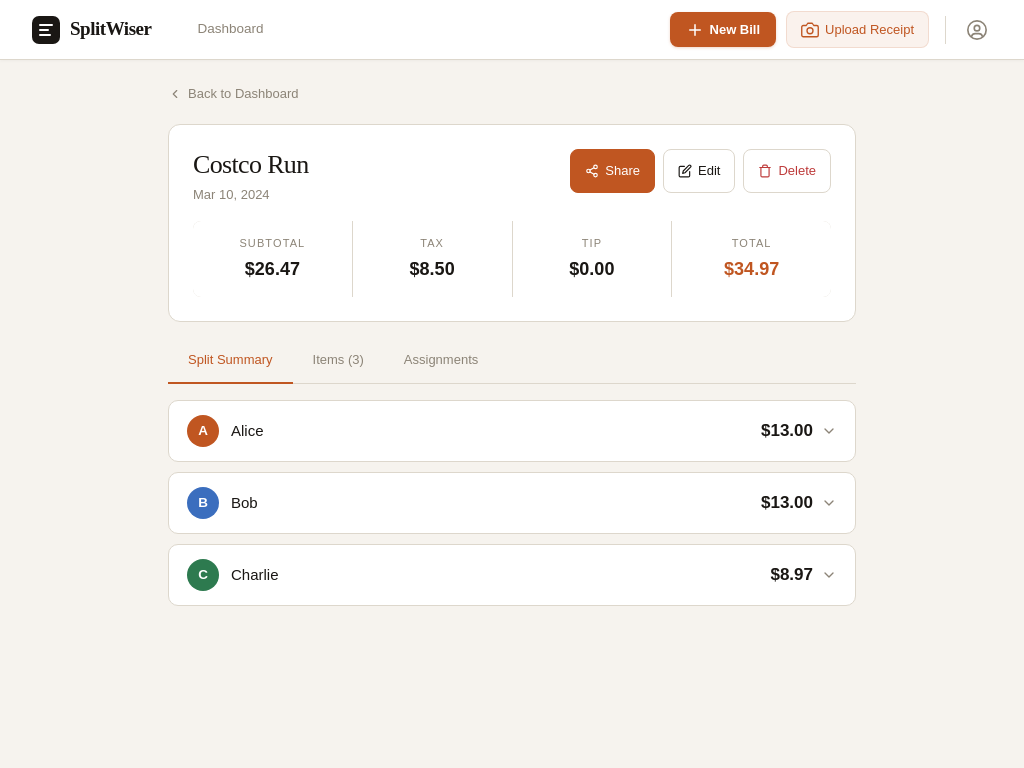
Test: Bill Detail Page › switches to Assignments tab and shows matrix
Expected: the heading "Costco Run" is shown, [193,149,309,181]
Click the button "Assignments": (441,361) [384,338,498,384]
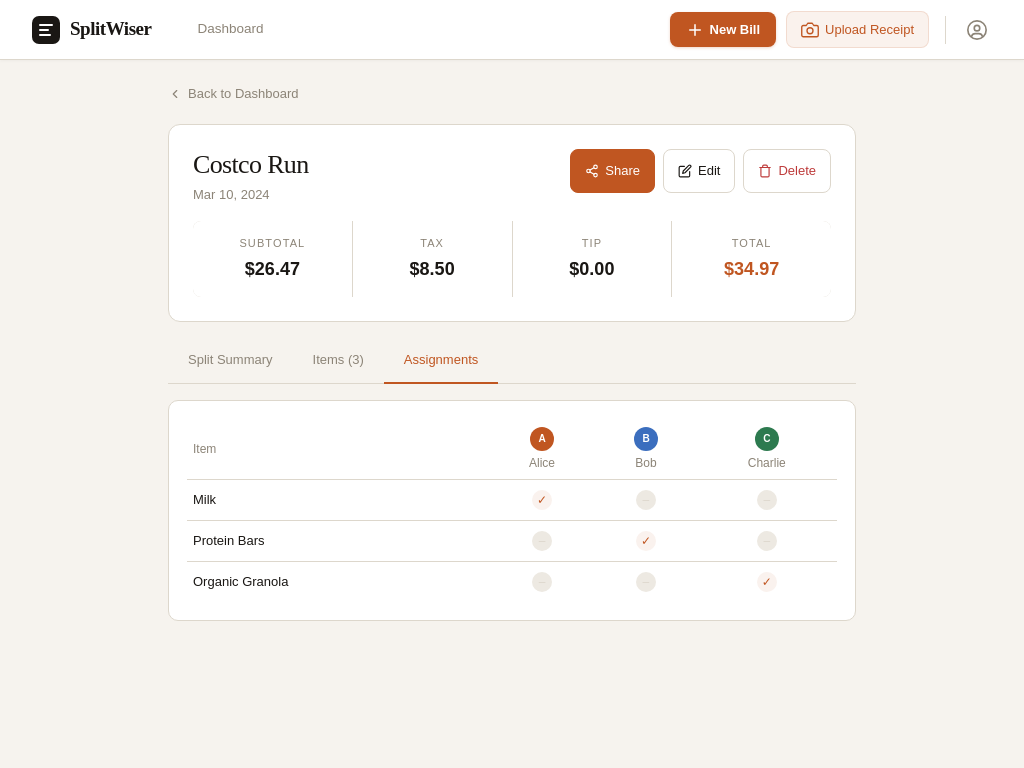
Expected: the column heading "Item" is shown, [187,419,489,479]
Expected: the text "✓" in the row of "Milk" is shown, [537,493,547,507]
